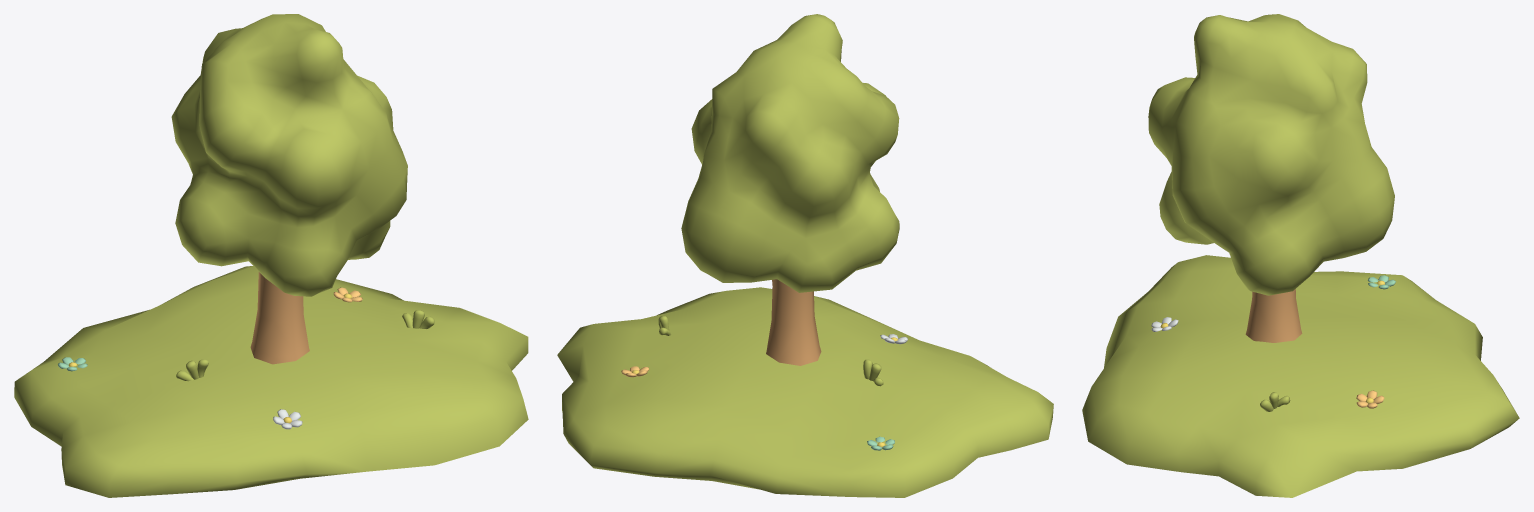
File: Tree.fbx
3 views of the same model, side by side, from view 1: azimuth 30°, elevation 25°; view 2: azimuth 150°, elevation 25°; view 3: azimuth 270°, elevation 25° (orthographic). The views are drawn at different scales.
Parts seen in each view (by area): view 1: Tree; view 2: Tree; view 3: Tree.
Part boxes in pixels (x1,y1,x2,y2): Tree: (14, 14, 528, 497); Tree: (557, 14, 1053, 497); Tree: (1082, 14, 1519, 497).
Size of the model in its own units: 337 by 259 by 277.
